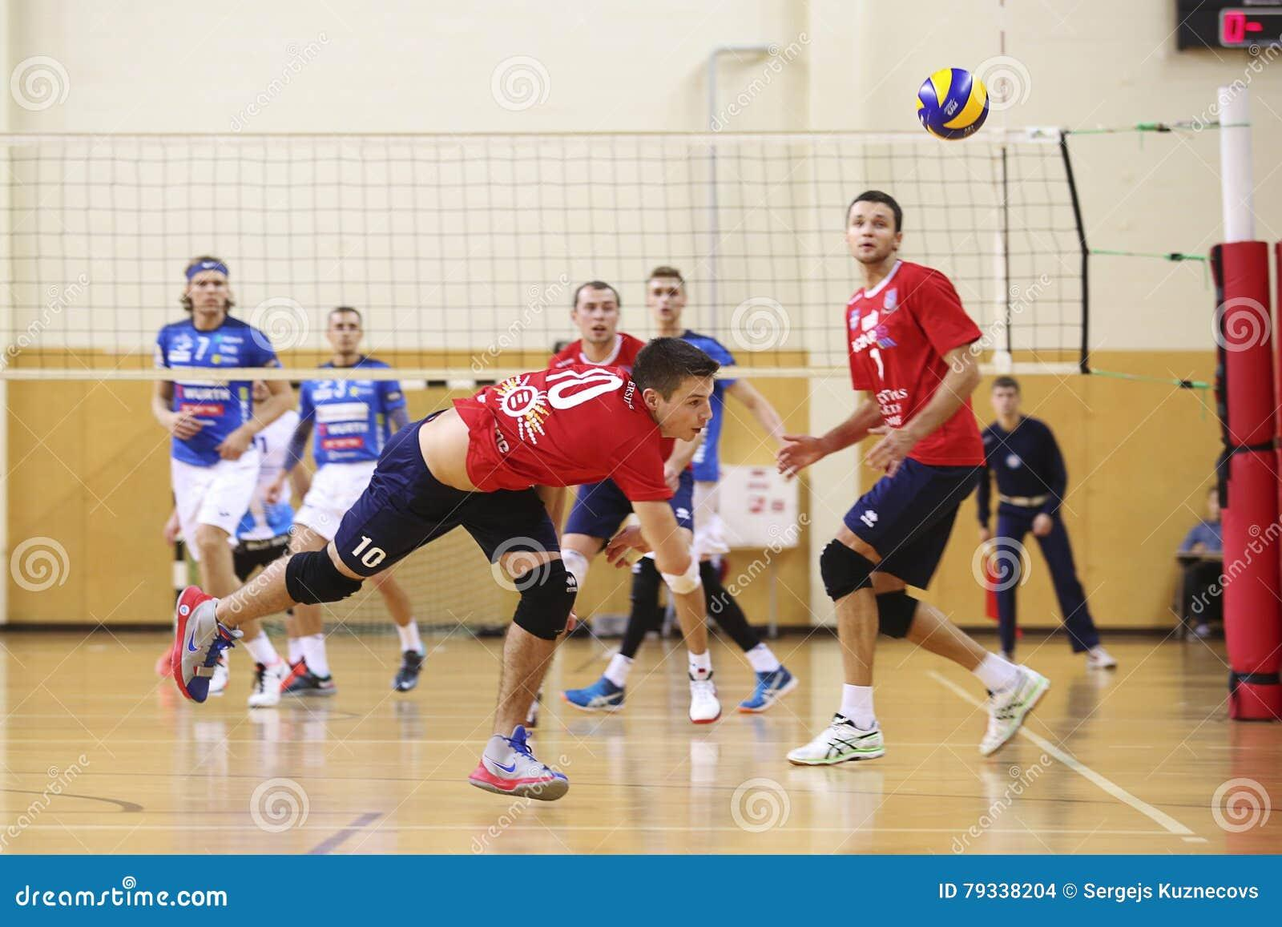ballon_volley: (913, 64, 992, 143)
